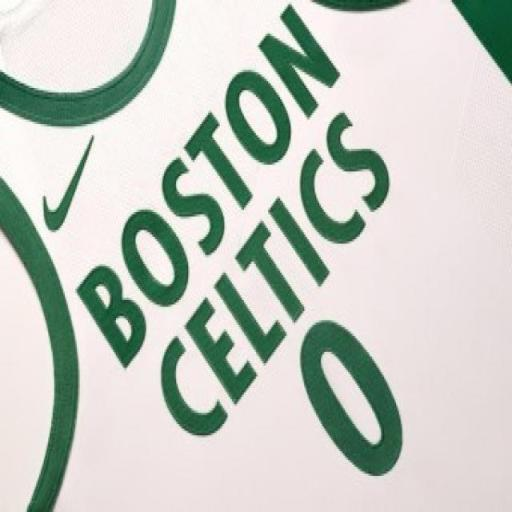Nike: (39, 134, 98, 232)
